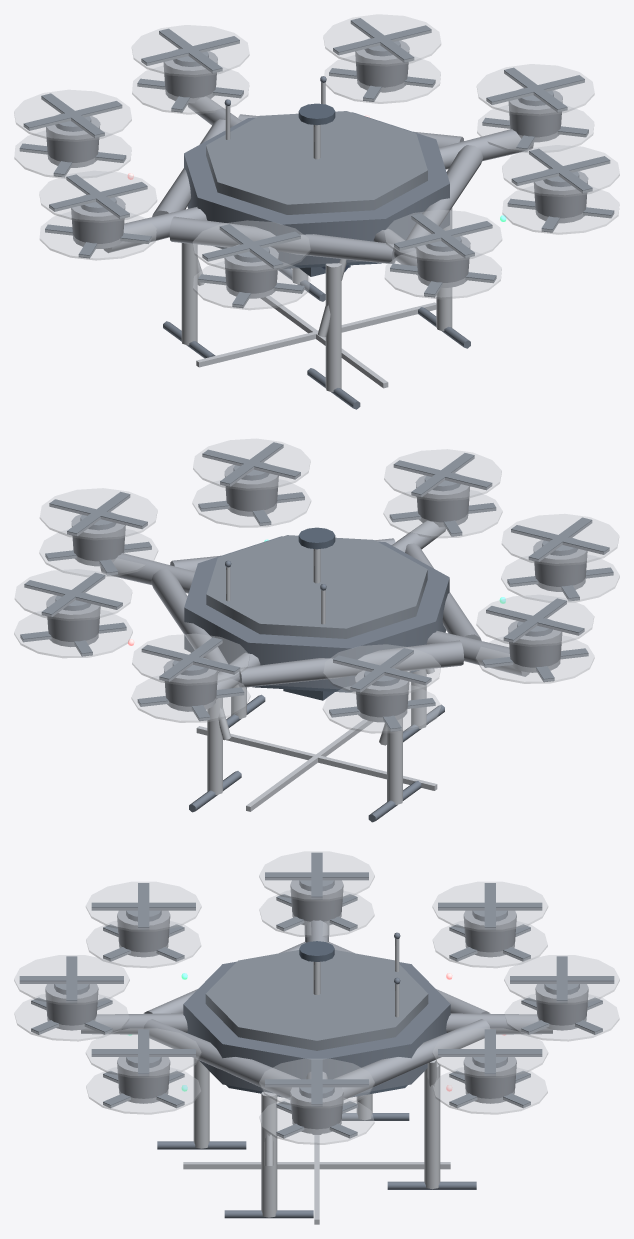
The model's file is octocopter.glb.
3 views of the same model, one above another, from view 1: azimuth 30°, elevation 25°; view 2: azimuth 150°, elevation 25°; view 3: azimuth 270°, elevation 25° (orthographic). The views are drawn at different scales.
Bounding box in the file's own units: 1.36 × 0.5475 × 1.36.
